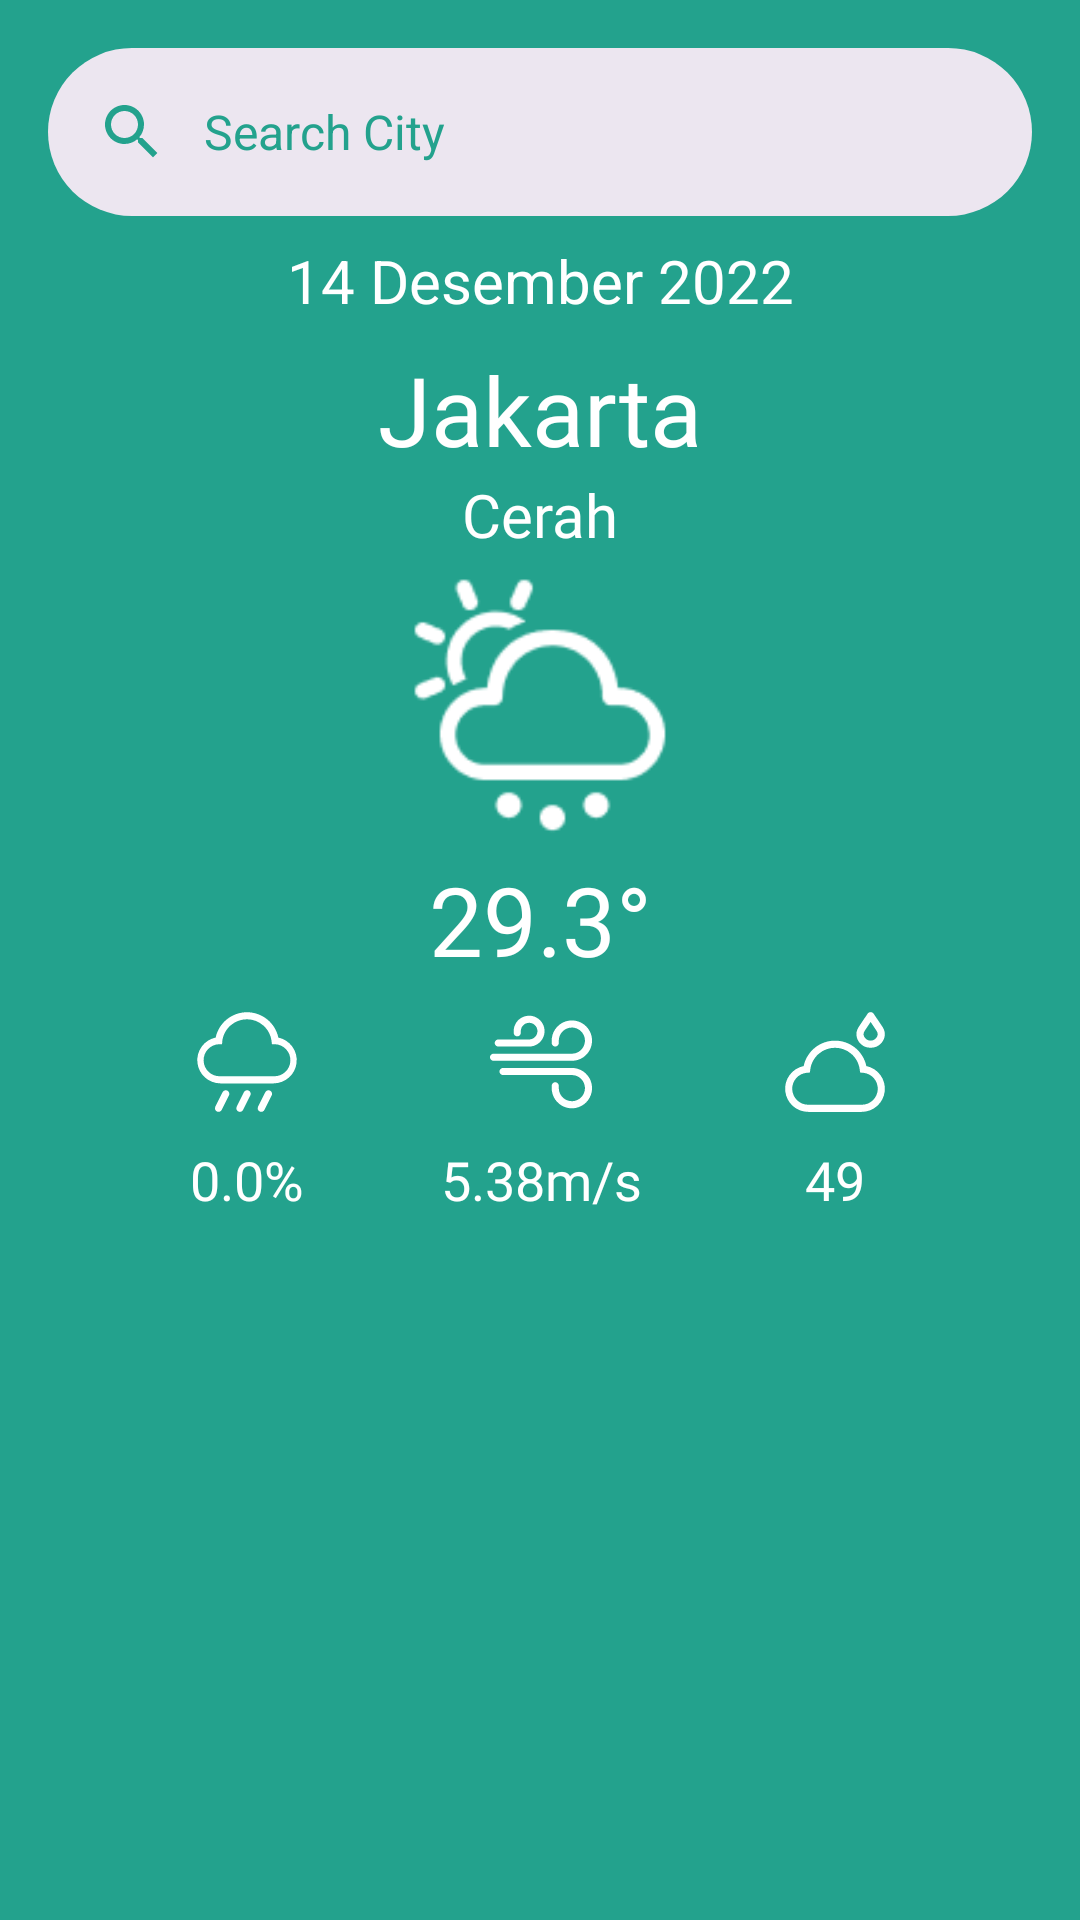

Screen size 1080 × 1920. Icon name, then its center in pixels as (x,y):
carbon humidity: (835,1062)
carbon rain: (247,1062)
cuaca: (540,705)
solar wind: (541,1062)
